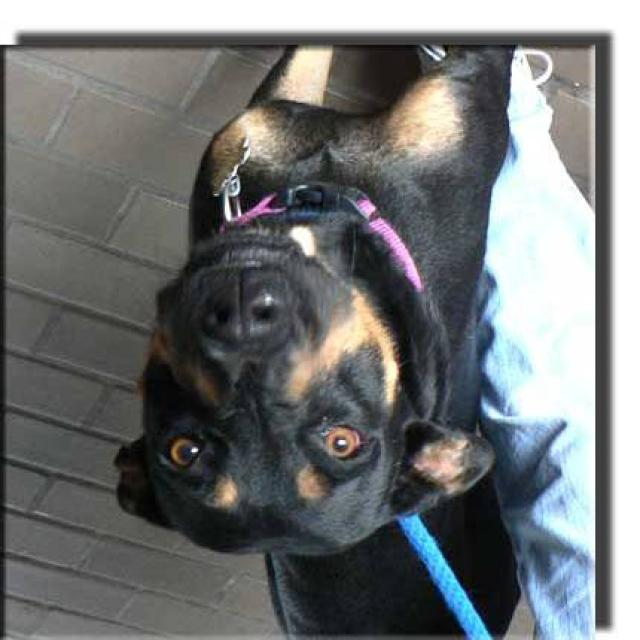dog: (100, 0, 589, 564)
